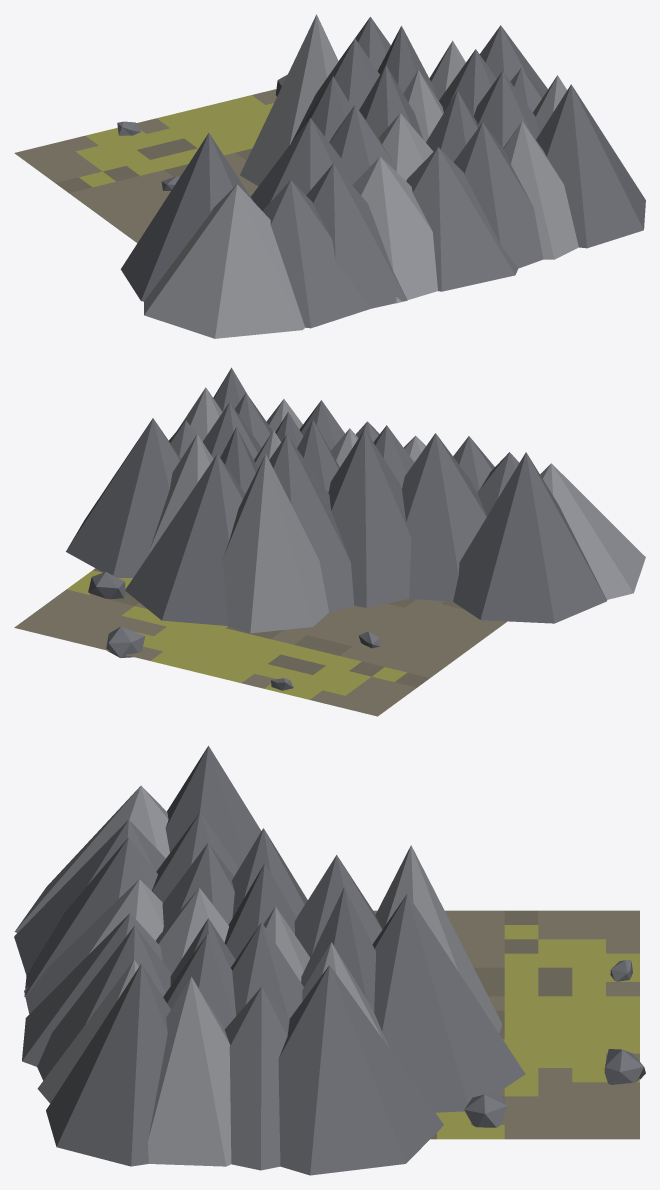
File: chunk_10_18.glb
3 renders of one model, top to bottom at view 1: azimuth 30°, elevation 25°; view 2: azimuth 150°, elevation 25°; view 3: azimuth 270°, elevation 25°, orthographic. The views are drawn at different scales.
Parts seen in each view (by area): view 1: chunk_10_18; view 2: chunk_10_18; view 3: chunk_10_18.
Boxes of the visible parts, bbox=[...] form: chunk_10_18: bbox=[14, 14, 645, 338]; chunk_10_18: bbox=[14, 367, 645, 716]; chunk_10_18: bbox=[14, 745, 645, 1175].
Size of the model in its own units: 21.42 by 6.72 by 18.68.
